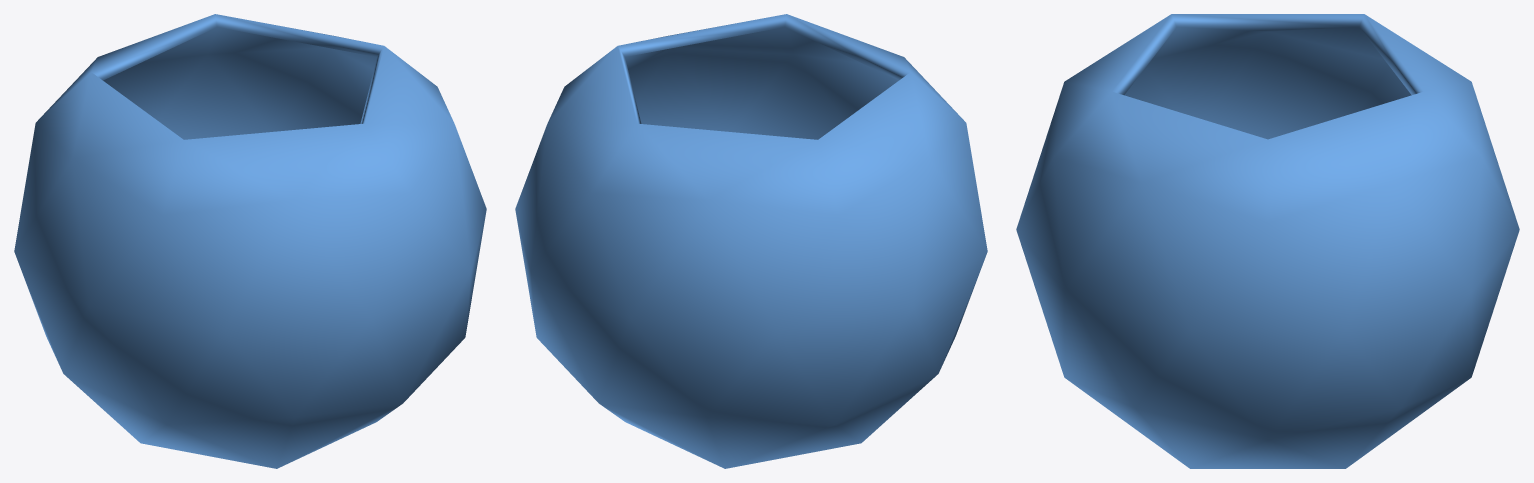
File: FishHouse.fbx
3 renders of one model, left to right at view 1: azimuth 30°, elevation 25°; view 2: azimuth 150°, elevation 25°; view 3: azimuth 270°, elevation 25°, orthographic. The views are drawn at different scales.
Parts seen in each view (by area): view 1: FishHouse; view 2: FishHouse; view 3: FishHouse.
Boxes of the visible parts, x1,y1,x2,y2 form: FishHouse: (14,14,486,468); FishHouse: (515,14,987,468); FishHouse: (1016,14,1519,468).
Bounding box in the file's own units: 26.67 × 22.43 × 28.05.
